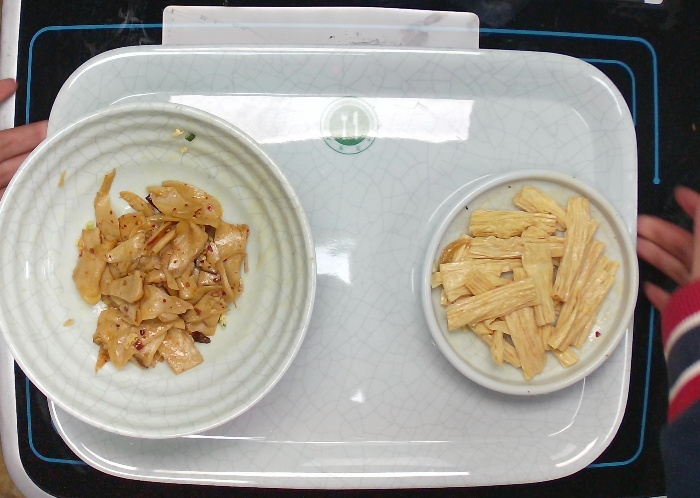JYsf-Da_Tang_Wan: (5, 99, 320, 441)
JYsf-Xiao_Yuan_Pan: (401, 170, 644, 412)
